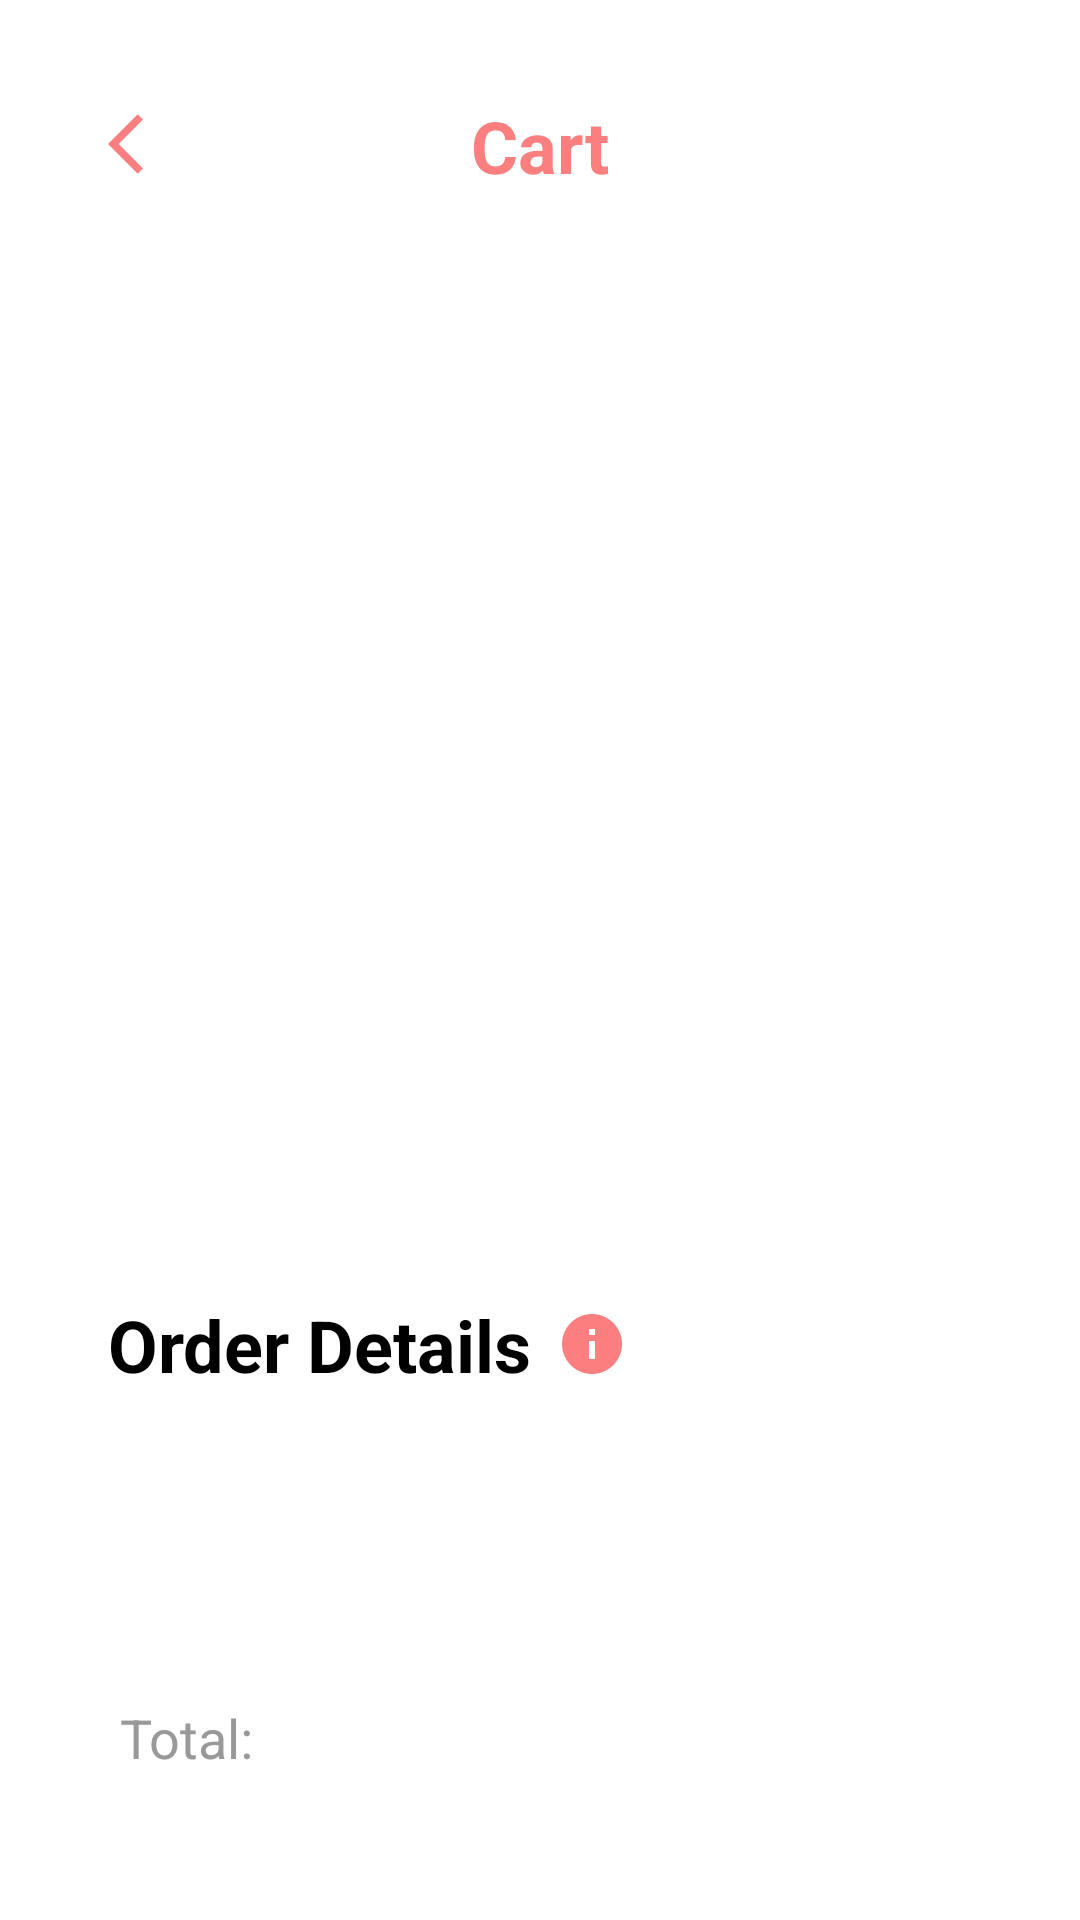

Where to tap for icons on this 1080*1920 app screen, as (x,y):
arrow back: (125,144)
